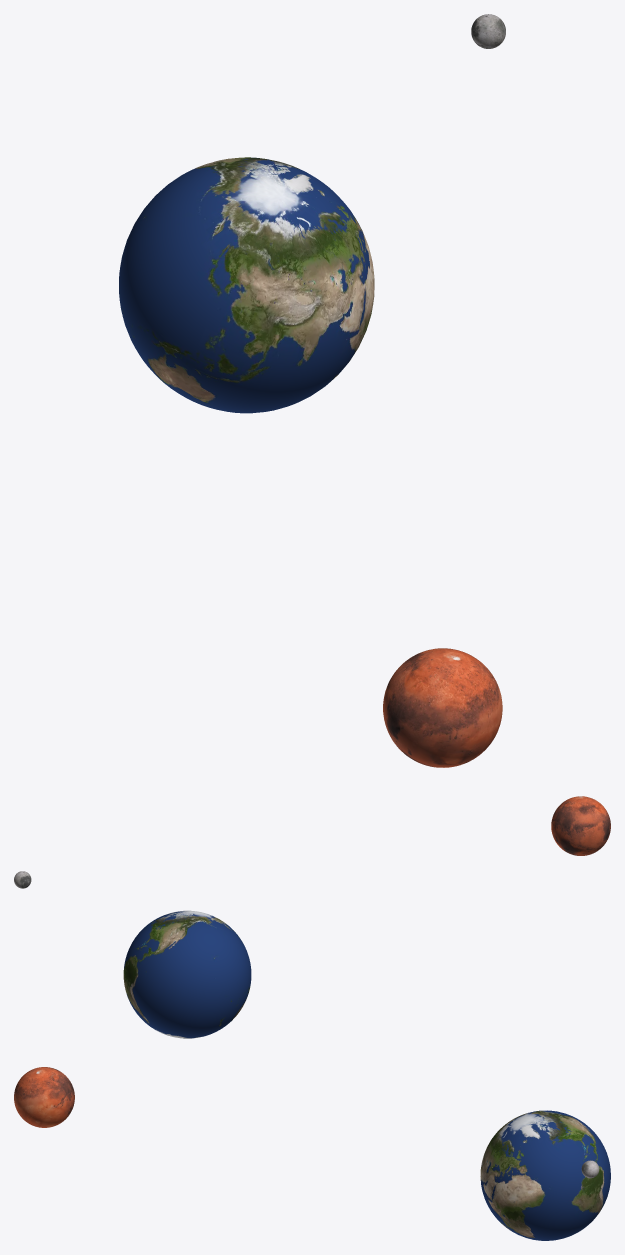
Rendered from Aadhya-transformed.glb.
3 renders of one model, top to bottom at view 1: azimuth 30°, elevation 25°; view 2: azimuth 150°, elevation 25°; view 3: azimuth 270°, elevation 25°, orthographic. The views are drawn at different scales.
Visible parts, largest first — view 1: Earth, Mars, Moon; view 2: Earth, Mars; view 3: Earth, Mars, Moon.
Boxes of the visible parts, x1=… form: Earth: x1=119, y1=157, x2=374, y2=413; Mars: x1=383, y1=648, x2=502, y2=767; Moon: x1=471, y1=14, x2=505, y2=48; Earth: x1=123, y1=910, x2=251, y2=1038; Mars: x1=551, y1=796, x2=610, y2=855; Earth: x1=480, y1=1110, x2=610, y2=1240; Mars: x1=14, y1=1067, x2=74, y2=1127; Moon: x1=581, y1=1160, x2=599, y2=1178.
Bounding box in the file's own units: 75.55 × 31.6 × 118.
3 materials, 3 textured.
